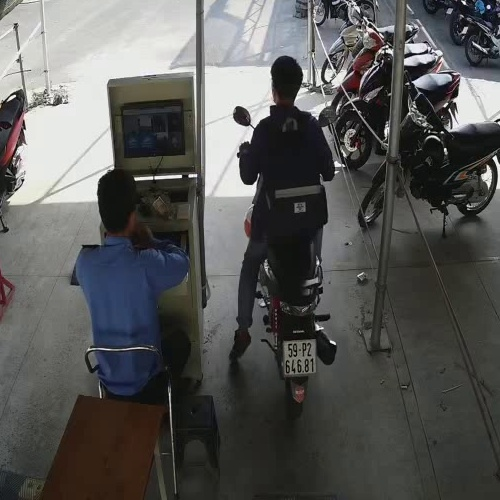number_plate: (281, 339, 318, 375)
